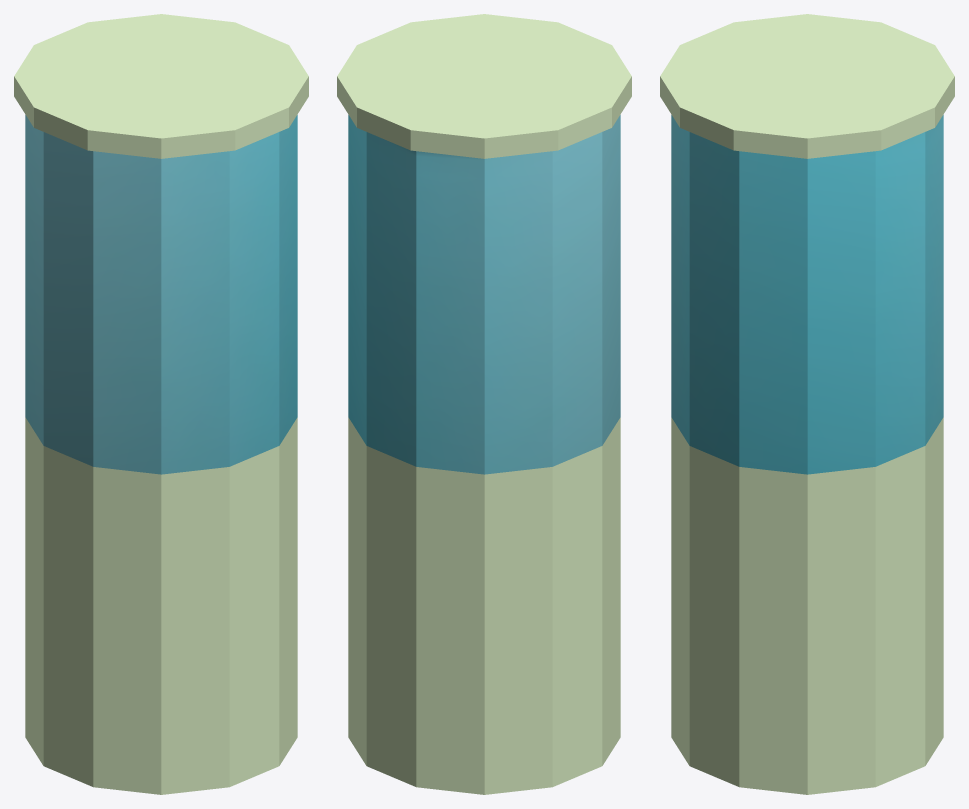
Rendered from Ürün37.fbx.
The picture shows the model from 3 angles, left to right: view 1: azimuth 30°, elevation 25°; view 2: azimuth 150°, elevation 25°; view 3: azimuth 270°, elevation 25°; orthographic projection.
Parts seen in each view (by area): view 1: pCylinder22; view 2: pCylinder22; view 3: pCylinder22.
Boxes of the visible parts, x1=… form: pCylinder22: x1=14, y1=14, x2=308, y2=794; pCylinder22: x1=337, y1=14, x2=631, y2=794; pCylinder22: x1=660, y1=14, x2=954, y2=794.
Bounding box in the file's own units: 11.6 × 28.73 × 11.6.
